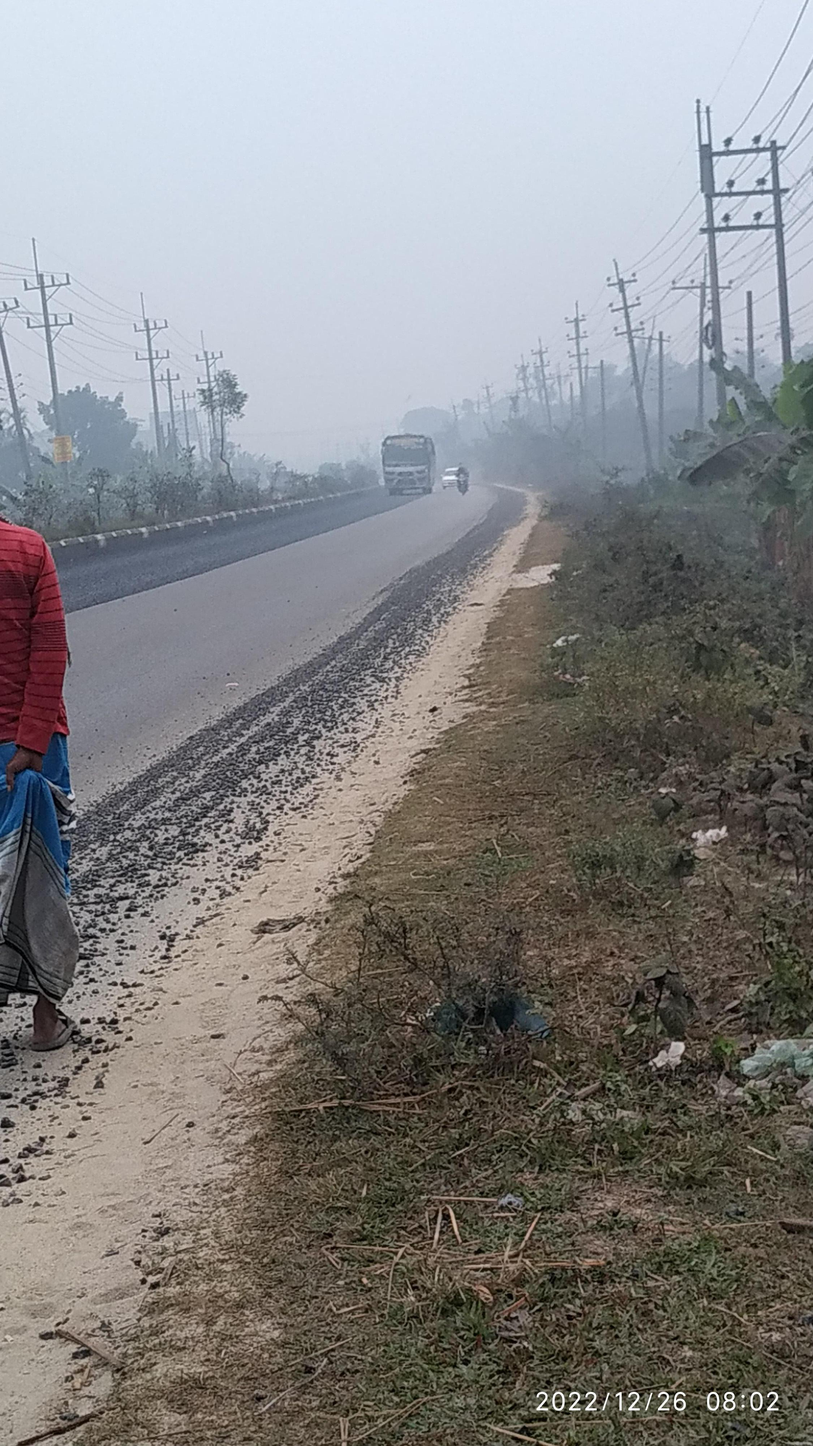Bike: (448, 462, 482, 497)
Bus: (370, 423, 448, 518)
